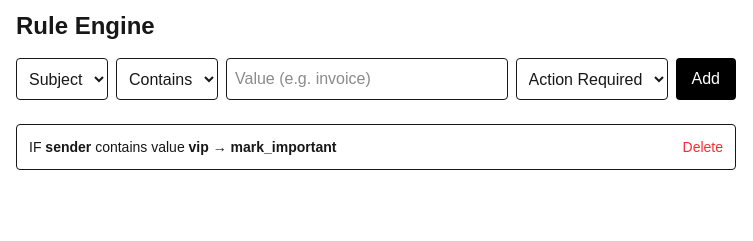
RulesPage › shows an inline error when deleting a rule fails
Click the button "Delete".
click(703, 147)  # box [682,137,723,157]
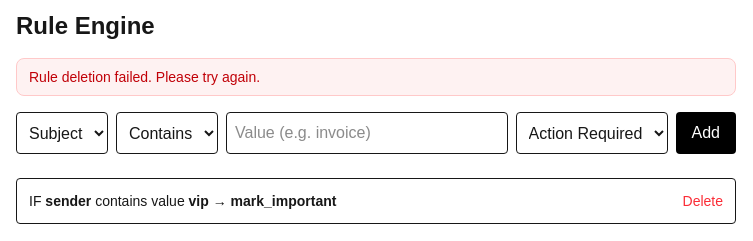
Expected: the text "Rule deletion failed. Please try again." is shown, [16,58,736,96]
